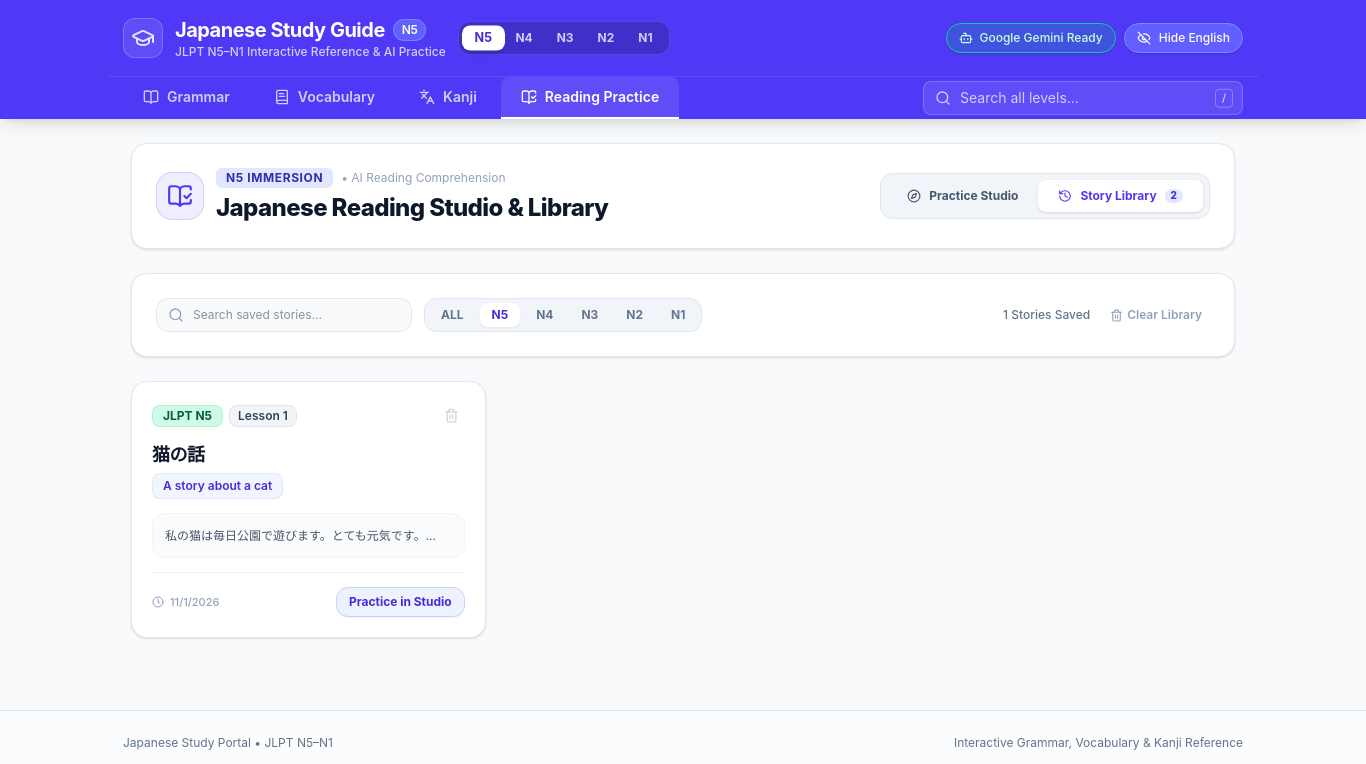
Scenario: Story Library flow › filters by level (following the header level by default) and searches by title
Expected: the heading "猫の話" is shown, [152,443,205,468]
Expected: the heading "電車の旅" is not shown
Click the button "ALL": [452, 315] box [429,303,476,327]
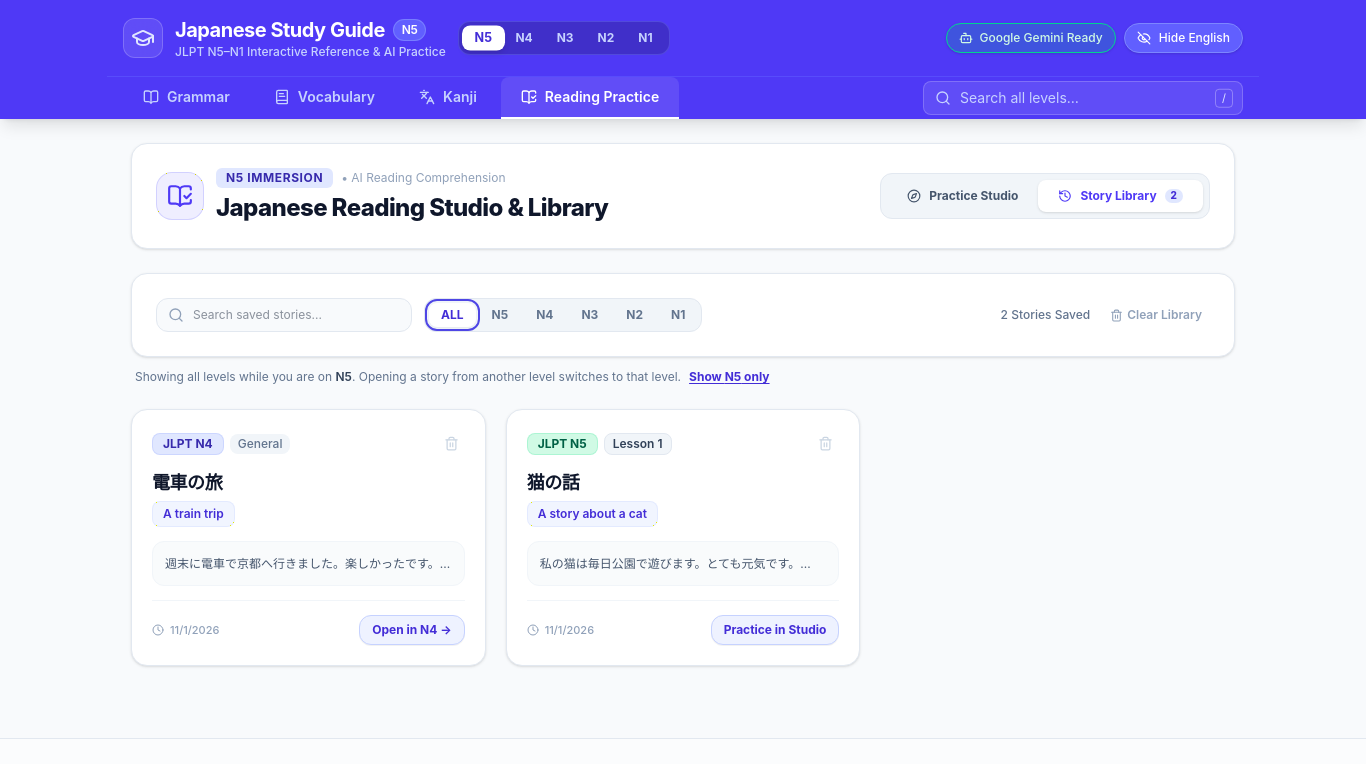
Now the heading "電車の旅" is shown, box [152,471,222,496]
Now the text "2 Stories Saved" is shown, box [1001,307,1090,323]
Now the text "Showing all levels while you are" is shown, box [135,369,681,385]
In the field with placeholder "Search saved stories...": [284, 315] box [156,298,412,332], type "電車"
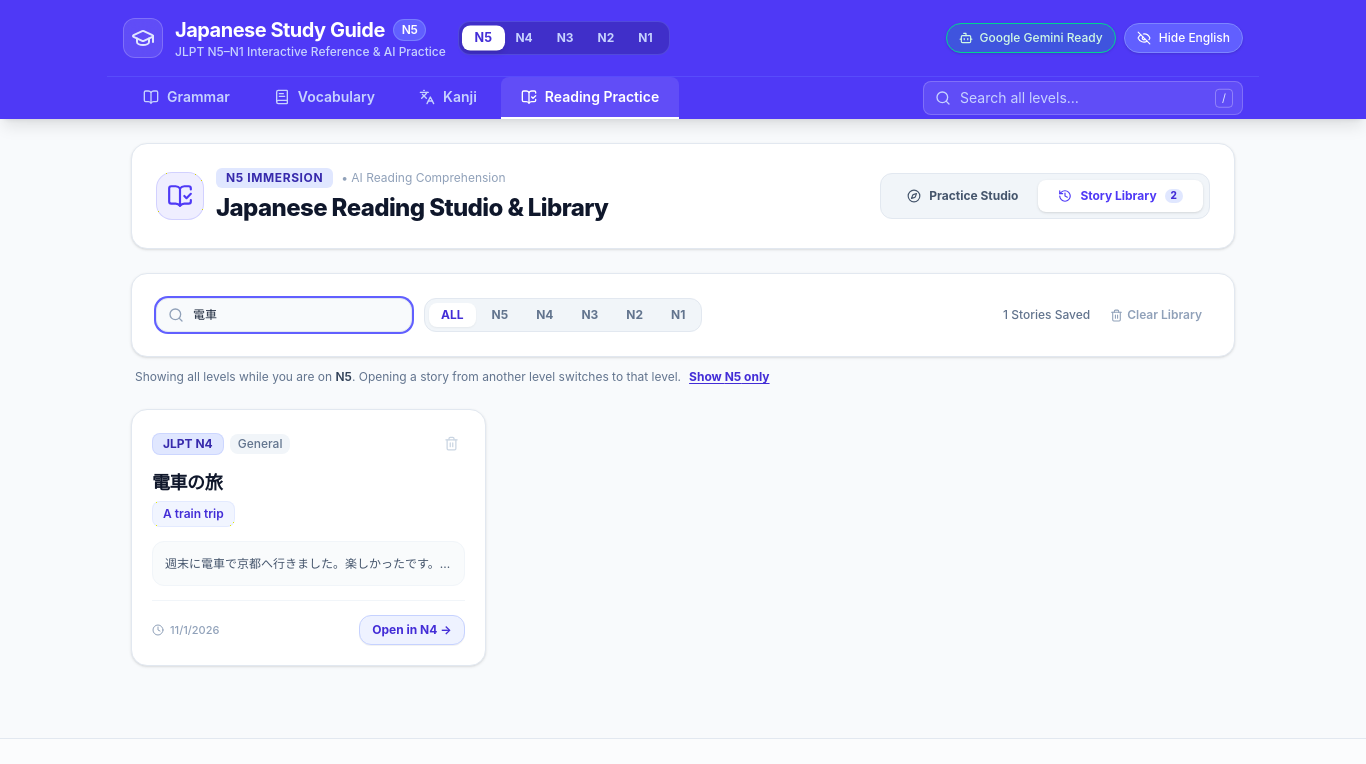
Now the heading "電車の旅" is shown, box [152,471,222,496]
Now the button "猫の話" is gone
Replace the text in the field with placeholder "Search saved stories..." with "nothing-matches": [284, 315] box [156,298,412,332]
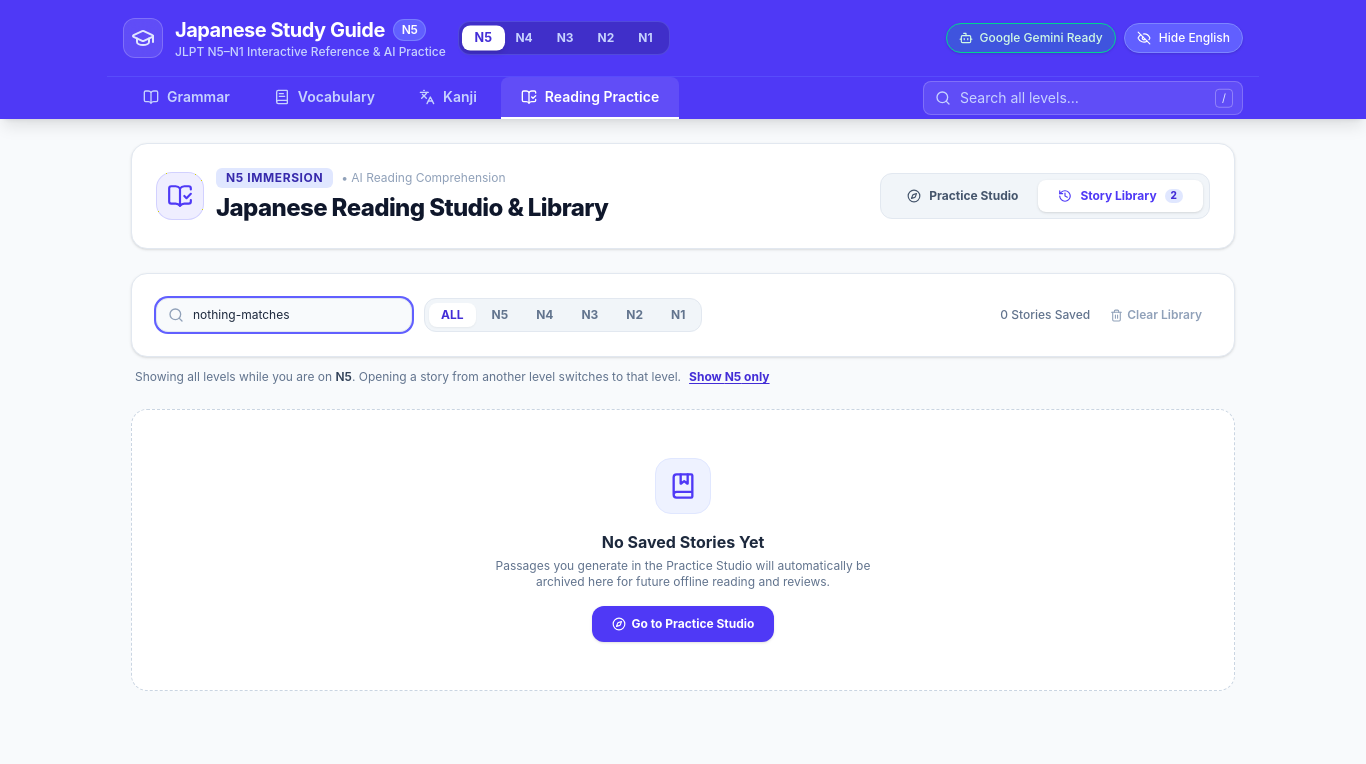
Now the heading "No Saved Stories Yet" is shown, box [602,532,764,552]
